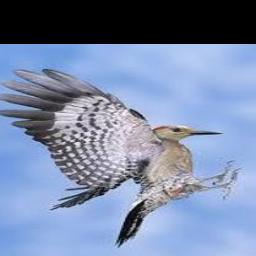Woodpecker: (0, 69, 241, 247)
